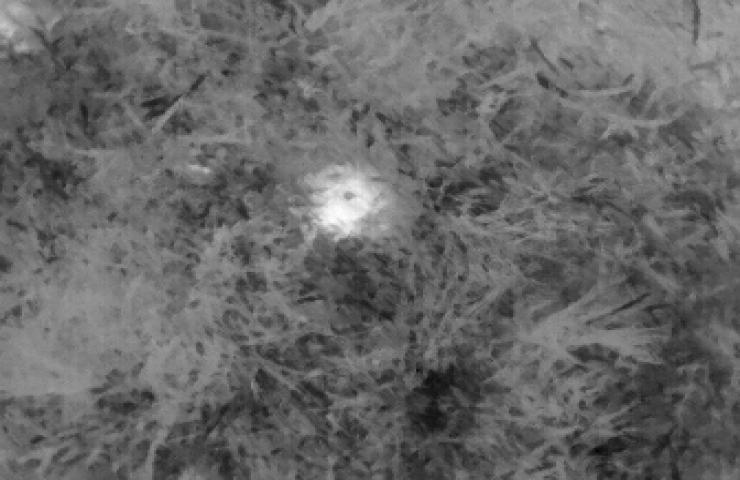landmines: (306, 162, 390, 239)
